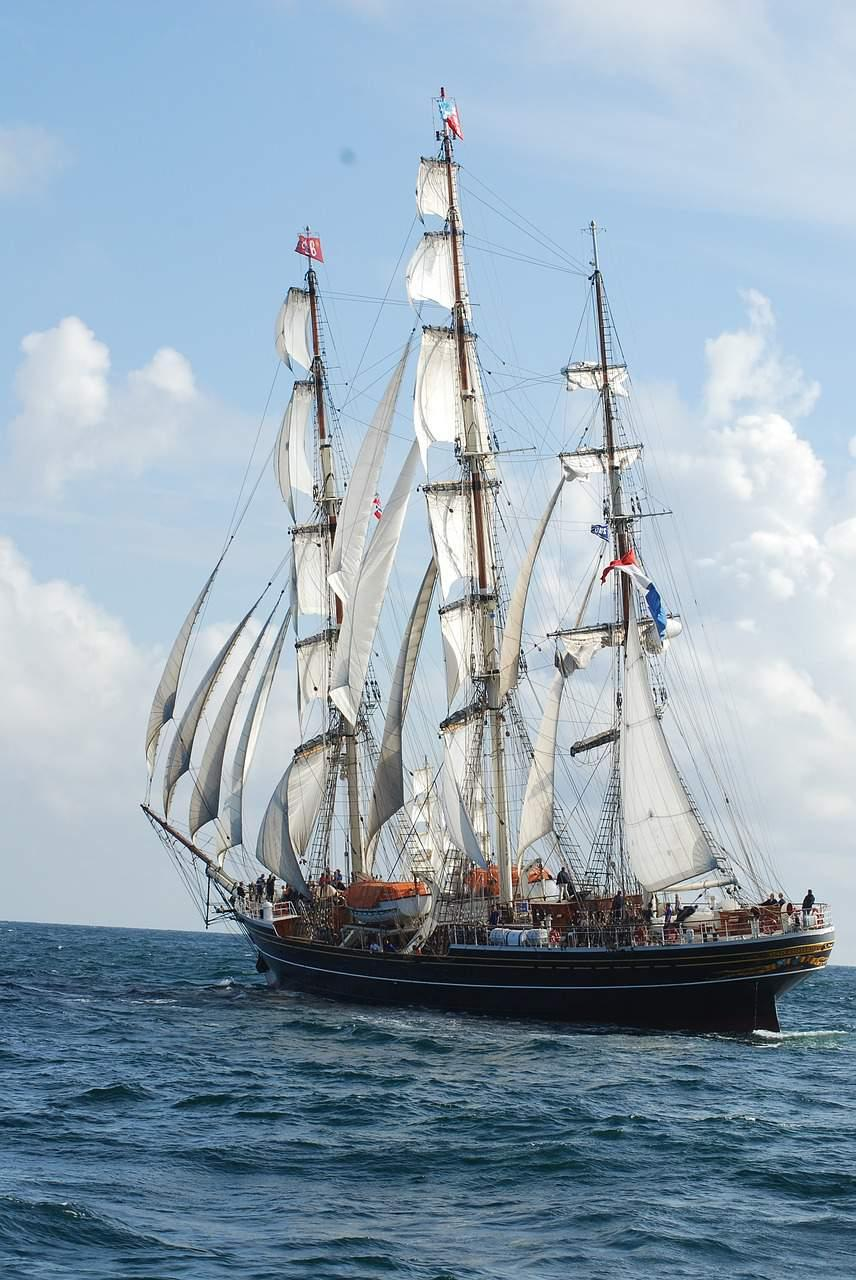Ship: (140, 83, 833, 1032)
